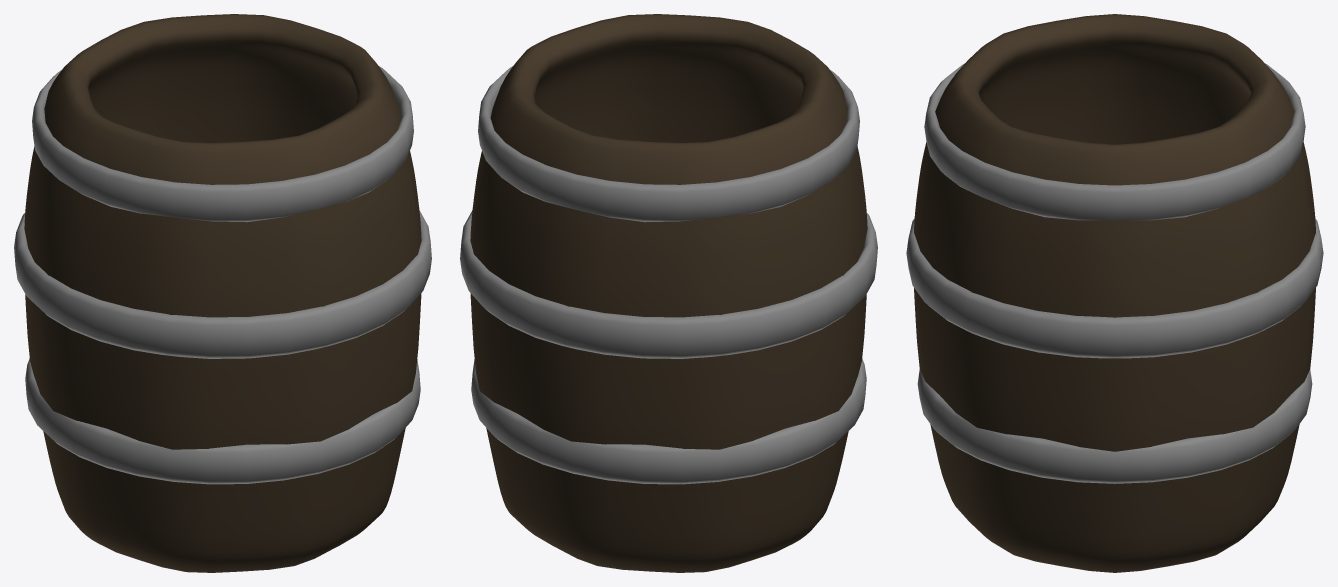
Rendered from Barrel.fbx.
3 renders of one model, left to right at view 1: azimuth 30°, elevation 25°; view 2: azimuth 150°, elevation 25°; view 3: azimuth 270°, elevation 25°, orthographic.
Parts seen in each view (by area): view 1: BarrelWood, Ring2, Ring1, Ring3; view 2: BarrelWood, Ring2, Ring1, Ring3; view 3: BarrelWood, Ring2, Ring1, Ring3.
Boxes of the visible parts, x1,y1,x2,y2 form: BarrelWood: (24,14,421,572); Ring2: (14,210,431,358); Ring1: (32,66,413,222); Ring3: (25,358,420,484); BarrelWood: (470,14,867,572); Ring2: (460,210,877,358); Ring1: (478,66,859,222); Ring3: (471,358,866,484); BarrelWood: (914,14,1315,572); Ring2: (906,218,1323,358); Ring1: (924,63,1305,220); Ring3: (917,369,1312,483).
Bounding box in the file's own units: 238 × 277 × 238.
